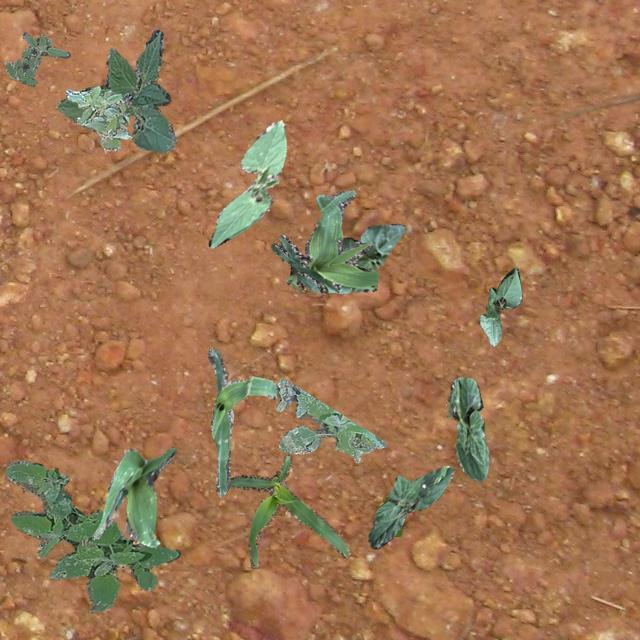crop: (56, 28, 176, 152), (228, 453, 349, 568), (270, 188, 378, 294), (206, 348, 278, 496), (208, 120, 286, 246), (92, 446, 176, 546), (368, 466, 453, 548), (446, 376, 488, 481), (478, 266, 522, 346), (341, 222, 405, 268)
weed: (5, 460, 178, 610), (276, 376, 386, 459), (64, 86, 130, 150), (4, 32, 68, 84), (382, 494, 403, 536)
